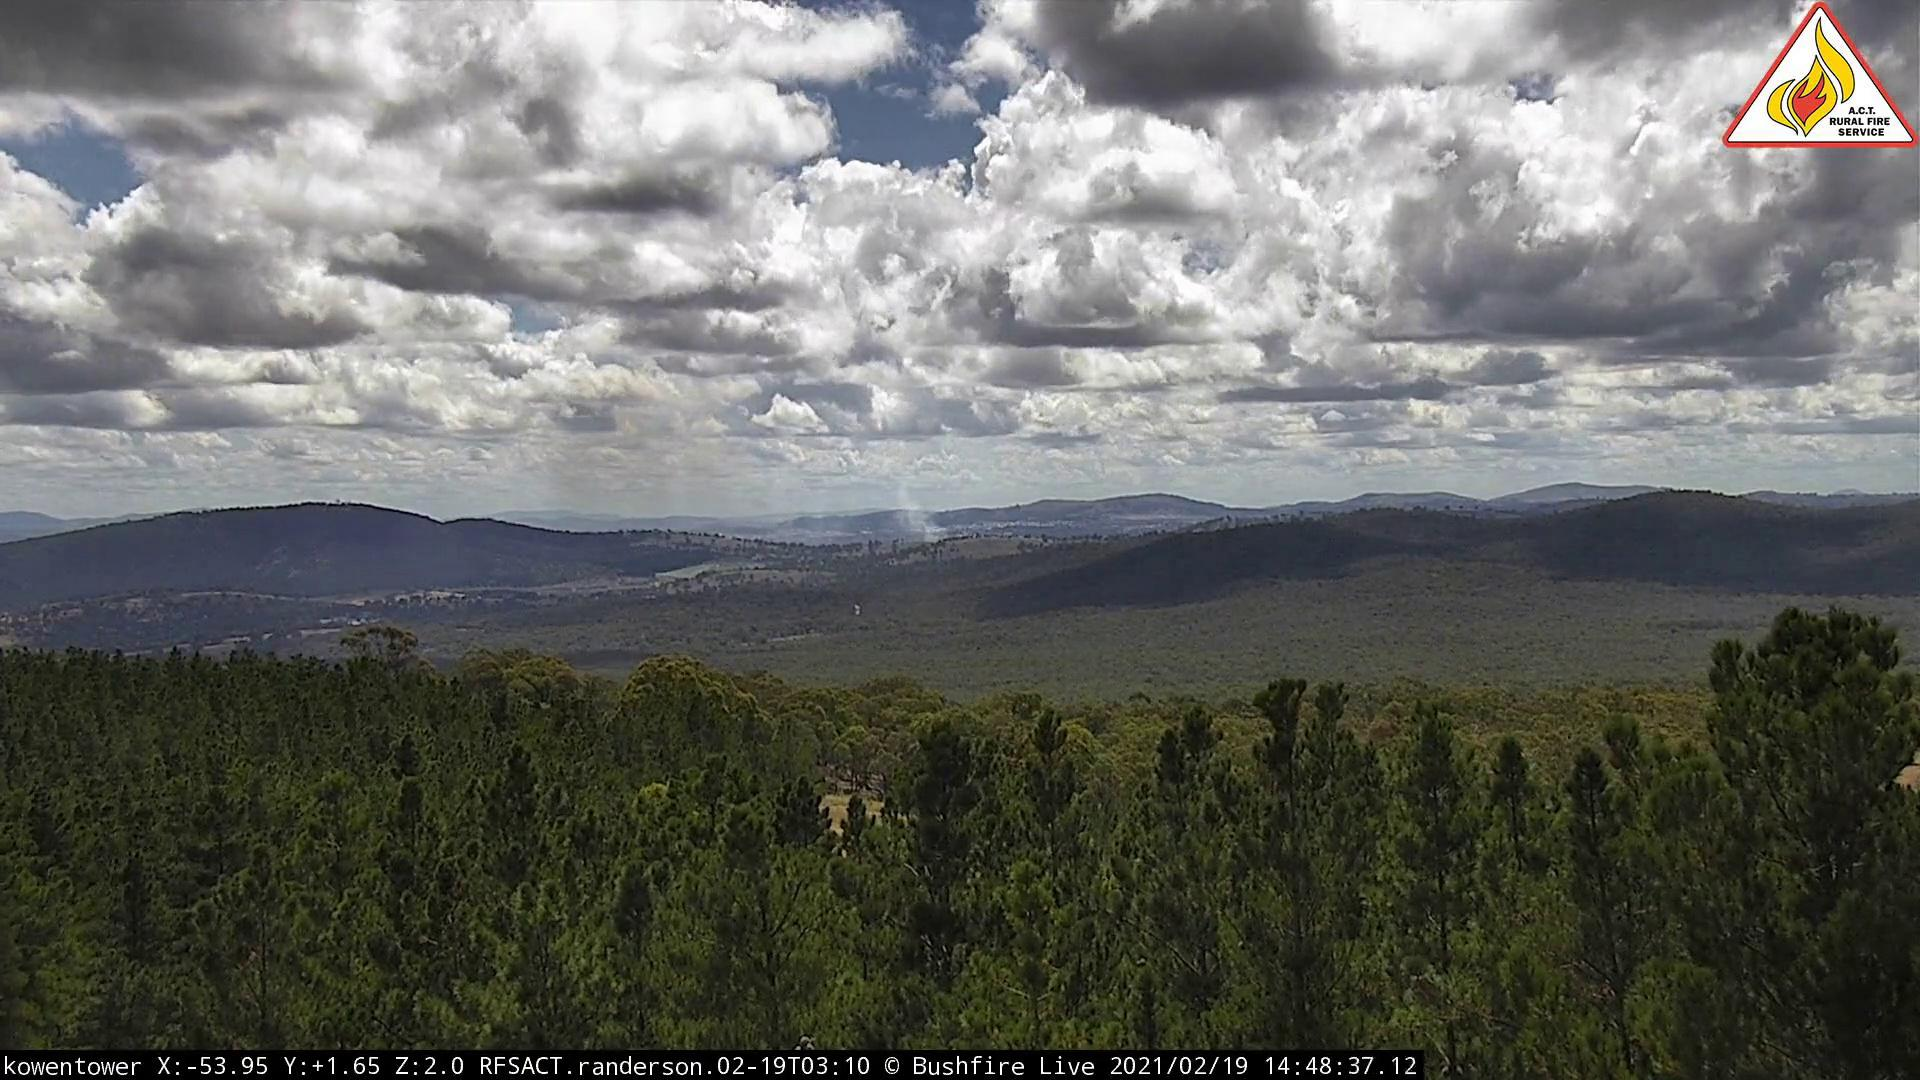Smoke: (520, 407, 957, 553)
